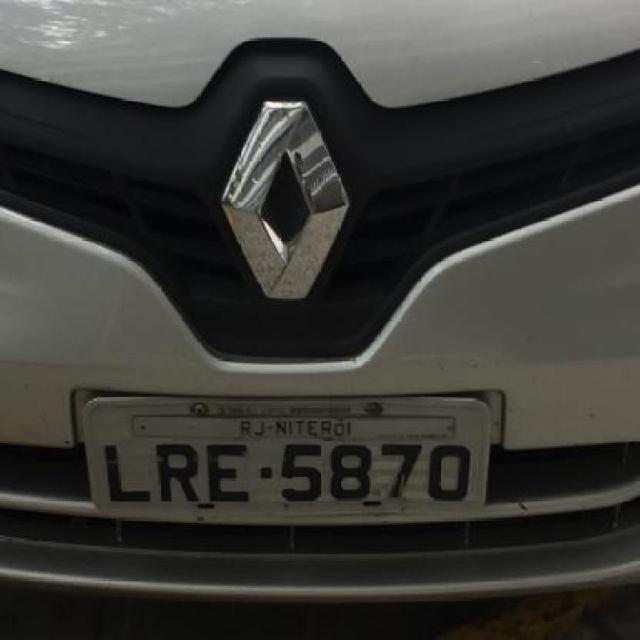mercosul_plate: (76, 390, 498, 532)
